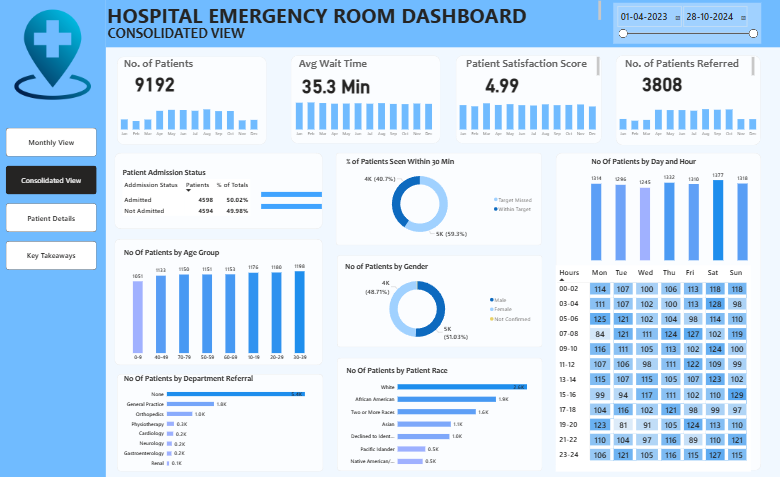

Layout of this report page (visuals, bound fields, positions):
{"tool":"powerbi","page":{"name":"Consolidated View","canvas":[2300,1400],"ordinal":1},"visuals":[{"type":"shape","box":[8.6,0,310,1400.4],"z":0},{"type":"shape","box":[317,0,1983,140.9],"z":1000},{"type":"textbox","box":[317,0,1449.3,75.9],"z":2000},{"type":"shape","box":[350.2,166.5,436.1,257.4],"z":3000},{"type":"textbox","box":[317,67.7,495.7,73.1],"z":4000},{"type":"card","fields":{"Values":["Hospital ER_Data - Hospital ER_Data.No Of Patients"]},"box":[383,200.1,154.3,82.9],"z":5000},{"type":"slicer","fields":{"Values":["Date Table.Date"]},"box":[1796.1,10.8,430.7,116.5],"z":6000},{"type":"textbox","box":[363,162.5,284.4,73.1],"z":8000},{"type":"clusteredColumnChart","fields":{"Y":["Hospital ER_Data - Hospital ER_Data.No Of Patients"],"Category":["Date Table.Month Name"]},"box":[344,281.7,436.1,130],"z":9000},{"type":"shape","box":[1335.5,162.5,425.3,257.4],"z":11000},{"type":"card","fields":{"Values":["Hospital ER_Data - Hospital ER_Data.Satisfaction Score"]},"box":[1395.1,203.2,154.4,84],"z":12000},{"type":"textbox","box":[1362.6,162.5,398.2,65],"z":13000},{"type":"clusteredColumnChart","fields":{"Y":["Hospital ER_Data - Hospital ER_Data.Satisfaction Score"],"Category":["Date Table.Month Name"]},"box":[1330.1,281.7,435,130],"z":14000},{"type":"shape","box":[1804.2,162.5,422.6,262.8],"z":15000},{"type":"card","fields":{"Values":["Hospital ER_Data - Hospital ER_Data.No of patients Reffered"]},"box":[1861.1,200.5,154.4,81.3],"z":16000},{"type":"textbox","box":[1825.9,162.5,387.4,65],"z":17000},{"type":"shape","box":[344,449.7,606.8,222.1],"z":18000},{"type":"clusteredColumnChart","fields":{"Y":["Hospital ER_Data - Hospital ER_Data.No of patients Reffered"],"Category":["Date Table.Month Name"]},"box":[1796.1,281.7,436.1,130],"z":19000},{"type":"shape","box":[856,162.5,436.1,257.4],"z":20000},{"type":"card","fields":{"Values":["Hospital ER_Data - Hospital ER_Data.Avg Wait Time"]},"box":[875,205.9,227.6,81.3],"z":21000},{"type":"textbox","box":[875,162.5,276.3,70.4],"z":22000},{"type":"clusteredColumnChart","fields":{"Y":["Avg(Hospital ER_Data - Hospital ER_Data.Patient Waittime)"],"Category":["Date Table.Month Name"]},"box":[853.3,281.7,435,130],"z":23000},{"type":"pivotTable","title":"Patient Admission Status","fields":{"Rows":["Hospital ER_Data - Hospital ER_Data.Addmission Status"],"Values":["Hospital ER_Data - Hospital ER_Data.No Of Patients","Divide(Hospital ER_Data - Hospital ER_Data.No Of Patients, ScopedEval(Hospital ER_Data - Hospital ER_Data.No Of Patients"]},"box":[360.3,490.3,623.1,181.5],"z":24000},{"type":"barChart","fields":{"Category":["Hospital ER_Data - Hospital ER_Data.Addmission Status"],"Y":["Hospital ER_Data - Hospital ER_Data.No Of Patients"]},"box":[766.6,531,241.1,105.7],"z":25000},{"type":"shape","box":[344,698.9,606.8,368],"z":26000},{"type":"clusteredColumnChart","fields":{"Category":["Hospital ER_Data - Hospital ER_Data.Age Group"],"Y":["Hospital ER_Data - Hospital ER_Data.No Of Patients"]},"box":[365.7,726,566.2,341.3],"z":27000},{"type":"shape","box":[349.5,1091.7,601.4,284.4],"z":28000},{"type":"clusteredBarChart","fields":{"Category":["Hospital ER_Data - Hospital ER_Data.Department Referral"],"Y":["Hospital ER_Data - Hospital ER_Data.No Of Patients"]},"box":[363,1091.7,566.2,284.4],"z":29000},{"type":"shape","box":[988.8,449.7,600,270],"z":30000},{"type":"donutChart","title":"% of Patients Seen Within 30 Min","fields":{"Category":["Hospital ER_Data - Hospital ER_Data.Waittime Status"],"Y":["Hospital ER_Data - Hospital ER_Data.No Of Patients"]},"box":[1013.2,457.8,560.8,249.2],"z":31000},{"type":"shape","box":[991.5,747.7,598.7,268.2],"z":32000},{"type":"donutChart","title":"No of Patients by Gender","fields":{"Y":["Hospital ER_Data - Hospital ER_Data.No Of Patients"],"Category":["Hospital ER_Data - Hospital ER_Data.Patient Gender"]},"box":[1007.7,766.6,560.8,249.2],"z":33000},{"type":"shape","box":[991.5,1045.7,598.7,330.5],"z":34000},{"type":"clusteredBarChart","fields":{"Y":["Hospital ER_Data - Hospital ER_Data.No Of Patients"],"Category":["Hospital ER_Data - Hospital ER_Data.Patient Race"]},"box":[1013.2,1067.3,566.2,308.8],"z":35000},{"type":"image","box":[27.1,24.4,273.6,273.6],"z":36000},{"type":"shape","box":[1628.1,449.7,598.7,926.5],"z":37000},{"type":"pivotTable","fields":{"Rows":["Hospital ER_Data - Hospital ER_Data.Waittime Interval"],"Columns":["Date Table.Day Name"],"Values":["Hospital ER_Data - Hospital ER_Data.No Of Patients"]},"box":[1628.1,774.8,568.9,601.4],"z":38000},{"type":"columnChart","title":"No Of Patients by Day and Hour","fields":{"Category":["Date Table.Day Name"],"Y":["Hospital ER_Data - Hospital ER_Data.No Of Patients"]},"box":[1728.3,457.8,468.7,308.8],"z":39000},{"type":"pageNavigator","box":[27.1,376.6,265.5,417.2],"z":39001}]}

Visuals, with their boxes on the page's 2300x1400 design canvas (x1, y1, x2, y2). These are canvas units, not pixel positions in the 780x477 screenshot, which may show the page scaled, cropped or inside an application window:
shape: box(9, 0, 319, 1400)
shape: box(317, 0, 2300, 141)
textbox: box(317, 0, 1766, 76)
shape: box(350, 166, 786, 424)
textbox: box(317, 68, 813, 141)
card - Hospital ER_Data - Hospital ER_Data.No Of Patients: box(383, 200, 537, 283)
slicer - Date Table.Date: box(1796, 11, 2227, 127)
textbox: box(363, 162, 647, 236)
clusteredColumnChart - Hospital ER_Data - Hospital ER_Data.No Of Patients x Date Table.Month Name: box(344, 282, 780, 412)
shape: box(1336, 162, 1761, 420)
card - Hospital ER_Data - Hospital ER_Data.Satisfaction Score: box(1395, 203, 1550, 287)
textbox: box(1363, 162, 1761, 228)
clusteredColumnChart - Hospital ER_Data - Hospital ER_Data.Satisfaction Score x Date Table.Month Name: box(1330, 282, 1765, 412)
shape: box(1804, 162, 2227, 425)
card - Hospital ER_Data - Hospital ER_Data.No of patients Reffered: box(1861, 200, 2016, 282)
textbox: box(1826, 162, 2213, 228)
shape: box(344, 450, 951, 672)
clusteredColumnChart - Hospital ER_Data - Hospital ER_Data.No of patients Reffered x Date Table.Month Name: box(1796, 282, 2232, 412)
shape: box(856, 162, 1292, 420)
card - Hospital ER_Data - Hospital ER_Data.Avg Wait Time: box(875, 206, 1103, 287)
textbox: box(875, 162, 1151, 233)
clusteredColumnChart - Avg(Hospital ER_Data - Hospital ER_Data.Patient Waittime) x Date Table.Month Name: box(853, 282, 1288, 412)
"Patient Admission Status" pivotTable: box(360, 490, 983, 672)
barChart - Hospital ER_Data - Hospital ER_Data.Addmission Status x Hospital ER_Data - Hospital ER_Data.No Of Patients: box(767, 531, 1008, 637)
shape: box(344, 699, 951, 1067)
clusteredColumnChart - Hospital ER_Data - Hospital ER_Data.Age Group x Hospital ER_Data - Hospital ER_Data.No Of Patients: box(366, 726, 932, 1067)
shape: box(350, 1092, 951, 1376)
clusteredBarChart - Hospital ER_Data - Hospital ER_Data.Department Referral x Hospital ER_Data - Hospital ER_Data.No Of Patients: box(363, 1092, 929, 1376)
shape: box(989, 450, 1589, 720)
"% of Patients Seen Within 30 Min" donutChart: box(1013, 458, 1574, 707)
shape: box(992, 748, 1590, 1016)
"No of Patients by Gender" donutChart: box(1008, 767, 1568, 1016)
shape: box(992, 1046, 1590, 1376)
clusteredBarChart - Hospital ER_Data - Hospital ER_Data.No Of Patients x Hospital ER_Data - Hospital ER_Data.Patient Race: box(1013, 1067, 1579, 1376)
image: box(27, 24, 301, 298)
shape: box(1628, 450, 2227, 1376)
pivotTable - Hospital ER_Data - Hospital ER_Data.Waittime Interval x Date Table.Day Name: box(1628, 775, 2197, 1376)
"No Of Patients by Day and Hour" columnChart: box(1728, 458, 2197, 767)
pageNavigator: box(27, 377, 293, 794)
